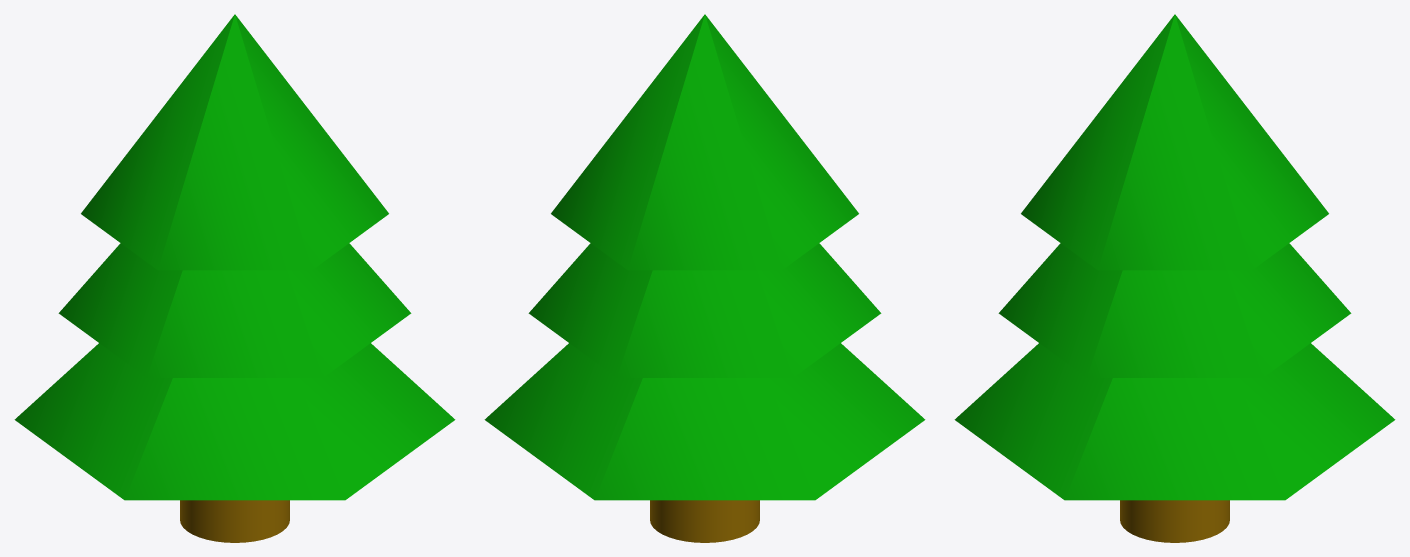
Rendered from tree.glb.
3 renders of one model, left to right at view 1: azimuth 30°, elevation 25°; view 2: azimuth 150°, elevation 25°; view 3: azimuth 270°, elevation 25°, orthographic.
Bounding box in the file's own units: 1.73 × 2.53 × 2.
